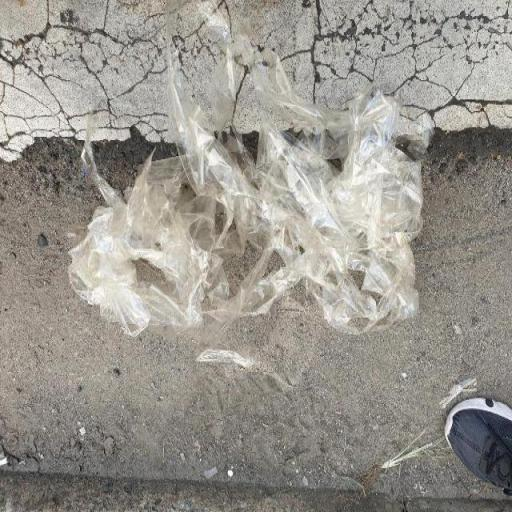plastic-bag: (64, 0, 426, 394)
